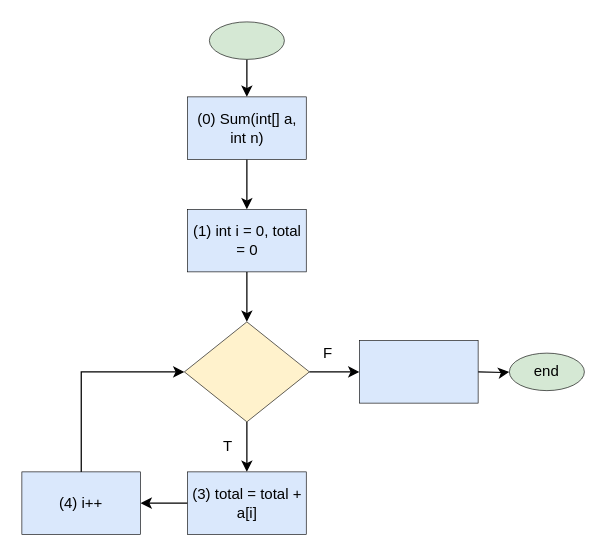
Image size: 606x556. Some labels were removed from this diagram. Here are the shapes that lost their labels. From the top down, the box of each, then its label:
(208, 21, 284, 59): Entry
(184, 321, 309, 422): (2) i < n
(358, 340, 478, 403): (5) return total
